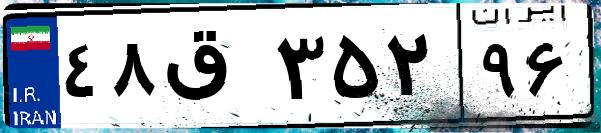2: (385, 28, 445, 110)
3: (270, 28, 330, 110)
4: (57, 26, 110, 100)
5: (330, 28, 385, 110)
6: (525, 38, 570, 115)
8: (110, 28, 158, 98)
9: (475, 38, 525, 113)
ق: (158, 20, 270, 120)
